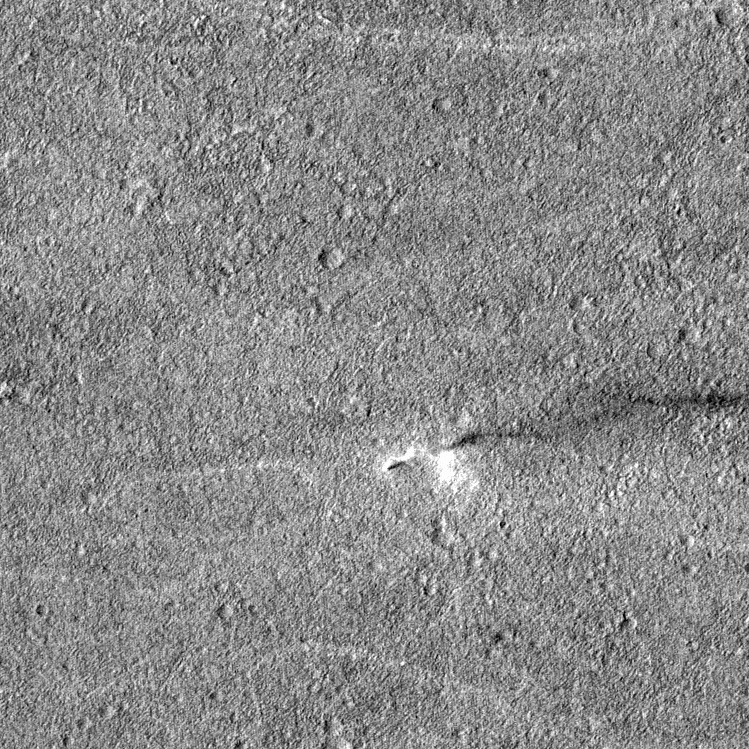dust_devil: (379, 385, 743, 491)
